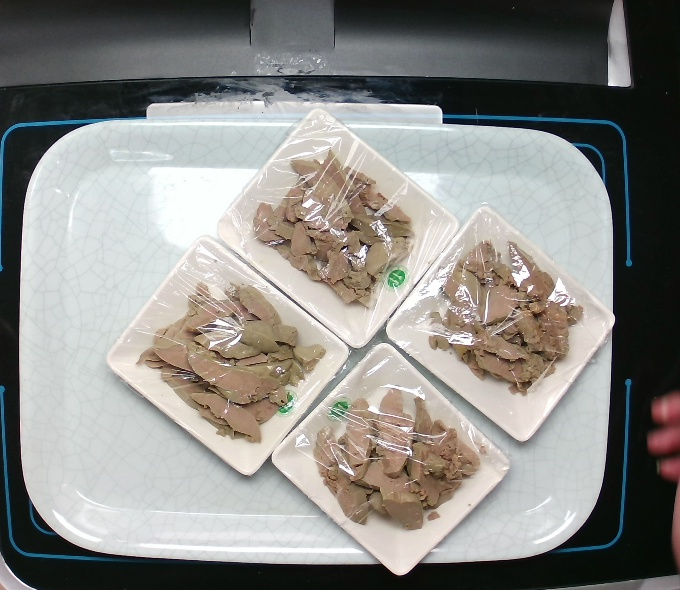wcq-EGan: (134, 274, 331, 446), (248, 141, 423, 314), (308, 383, 482, 532), (426, 236, 586, 398)
